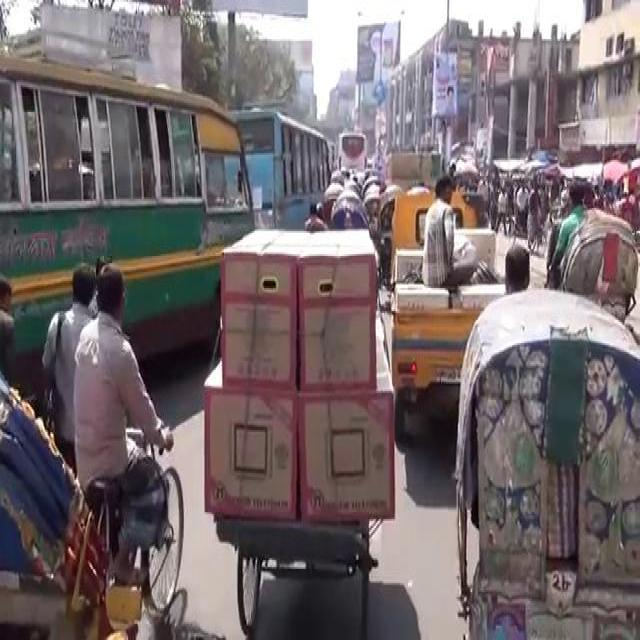bus: (1, 38, 266, 392), (230, 91, 334, 242), (336, 129, 366, 177)
pickup: (383, 175, 529, 447)
rickshaw: (1, 269, 188, 631), (450, 284, 638, 634), (547, 188, 637, 316), (504, 174, 546, 260), (378, 182, 408, 270), (328, 184, 370, 239), (361, 180, 381, 225)
